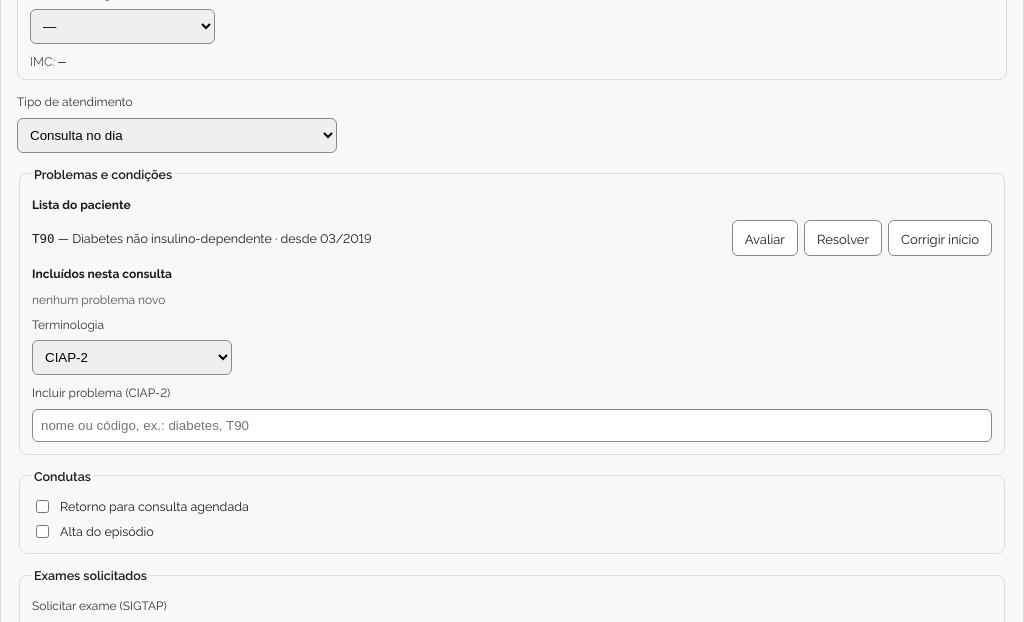
Test case: ConsultationEditor › 422 patient_name_missing vira a frase com o caminho
The image size is (1024, 622).
(page scrolled)
Click the button with aria-label "Avaliar T90".
click(765, 238)  # box [732, 220, 798, 256]
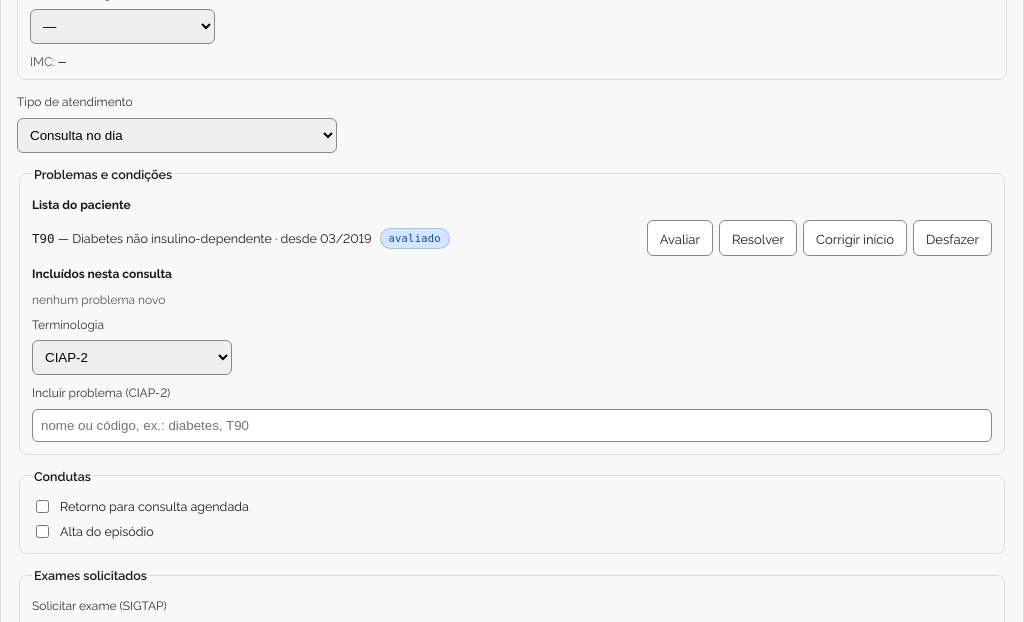
Click the checkbox labelled "Retorno para consulta agendada".
click(42, 506)  # box [36, 500, 49, 513]
(page scrolled)
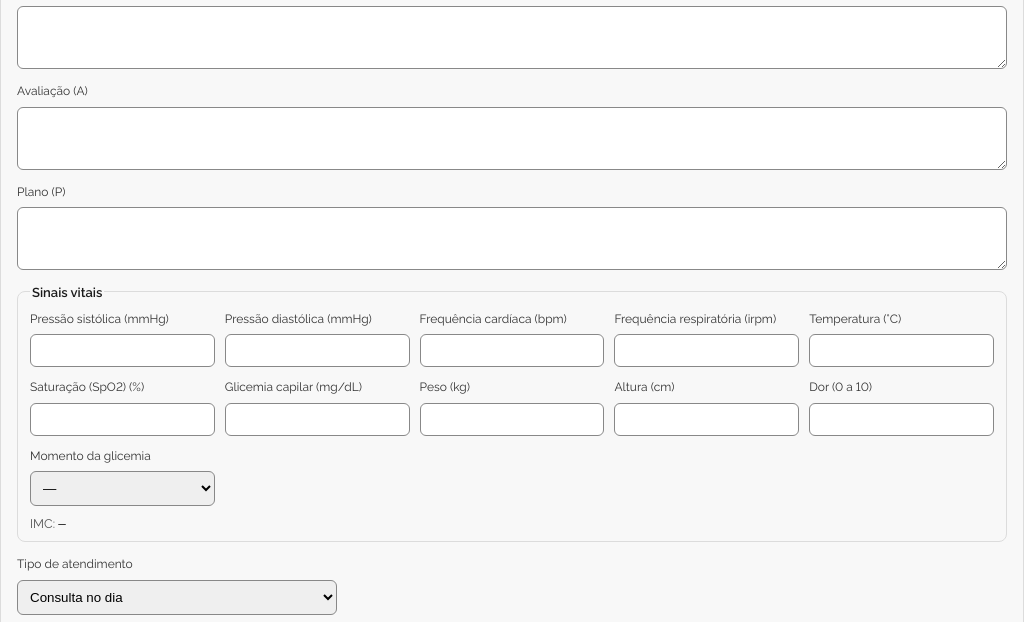
Type "Ajuste de dose; retorno em 30 dias." into the text box labelled "Plano (P)".
click(512, 239); type("Ajuste de dose; retorno em 30 dias.")  # box [17, 207, 1007, 270]
(page scrolled)
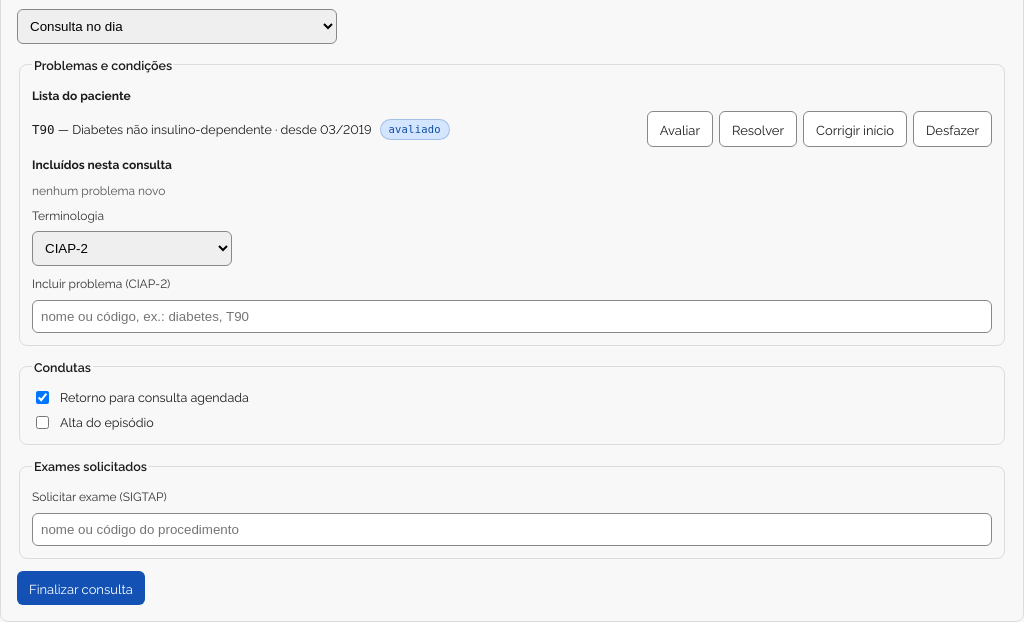
Click the button "Finalizar consulta".
click(81, 588)  # box [17, 570, 145, 604]
(page scrolled)
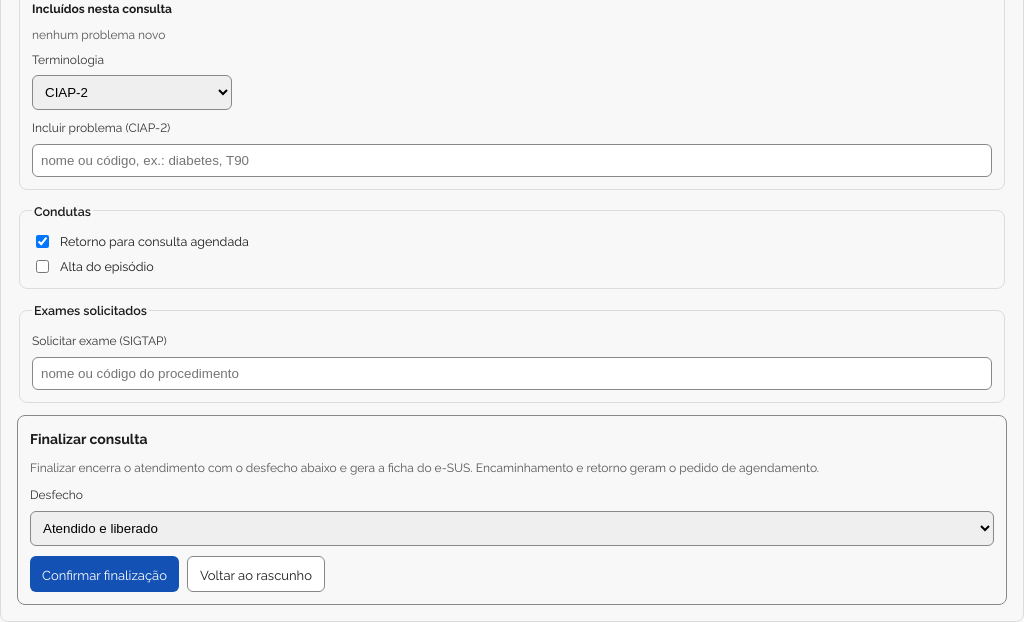
Click the button "Confirmar finalização".
click(104, 574)  # box [30, 556, 179, 592]
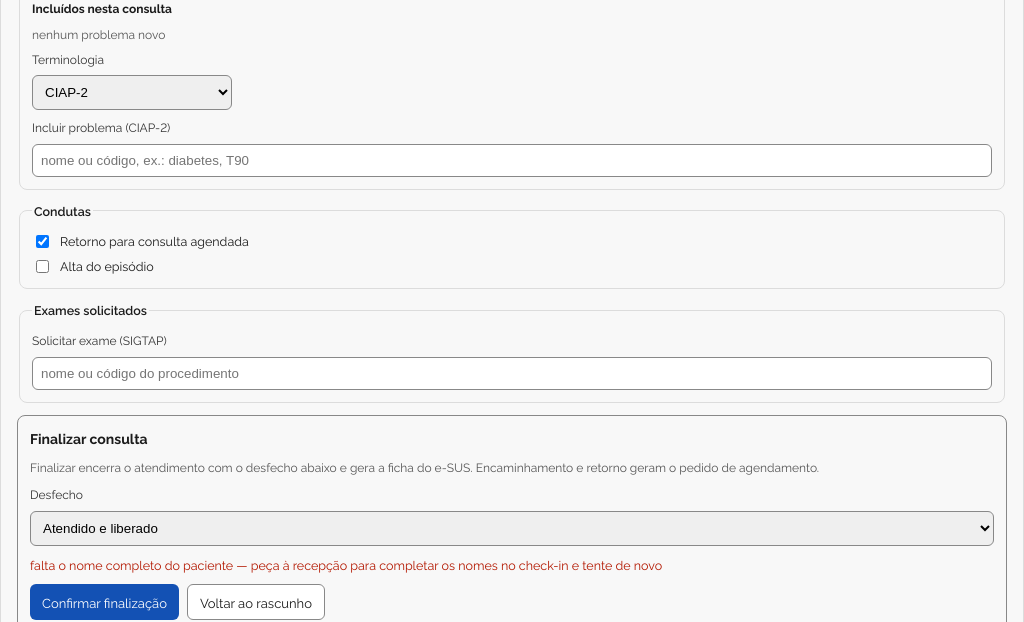
Check: the message shows "falta o nome completo do paciente — peça à recepção para completar os nomes no check-in e tente de novo", box [30, 556, 662, 573]
